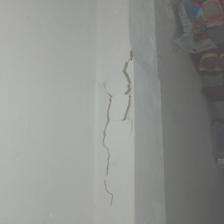Medium: (83, 37, 151, 208)
